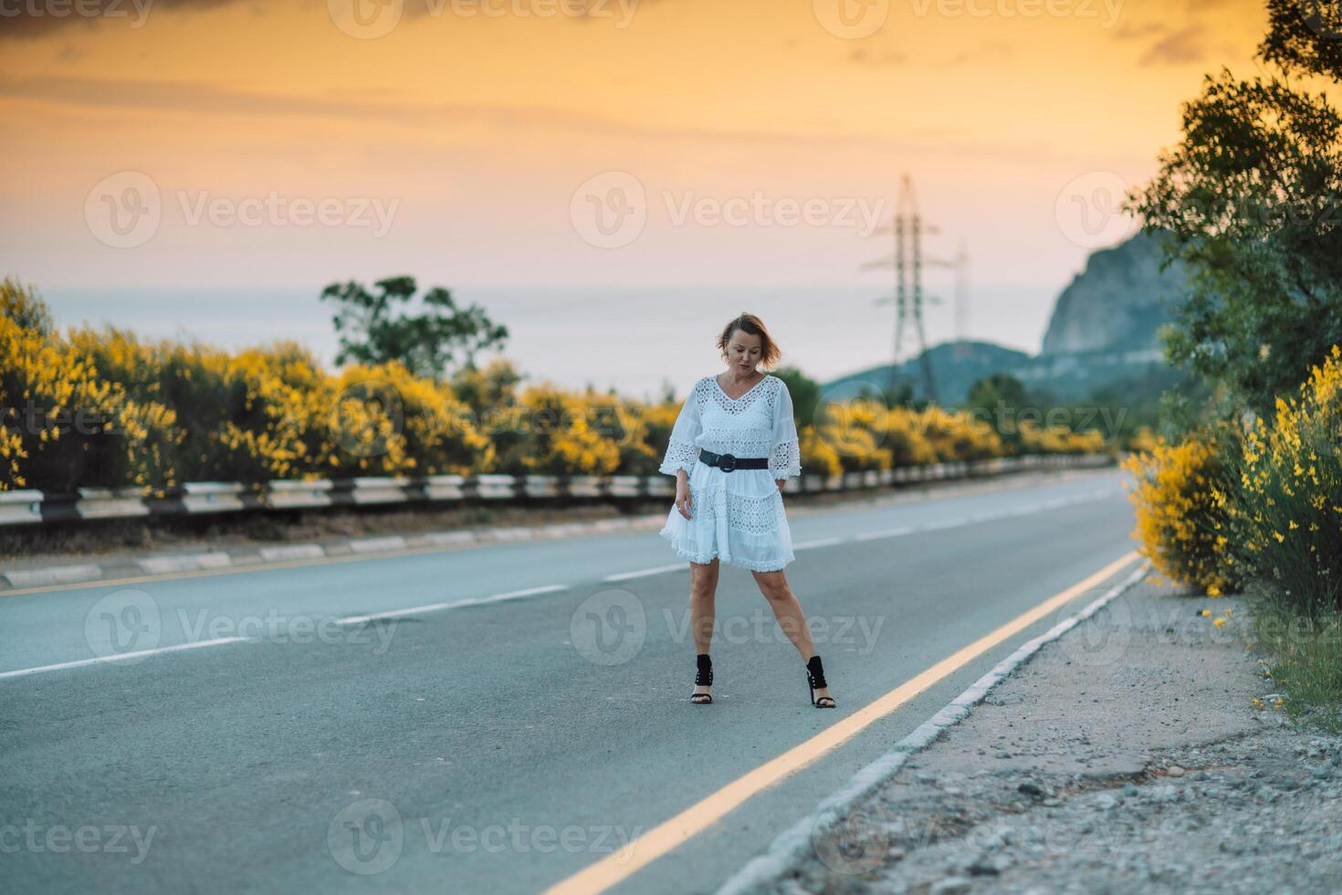Person: (656, 304, 861, 712)
